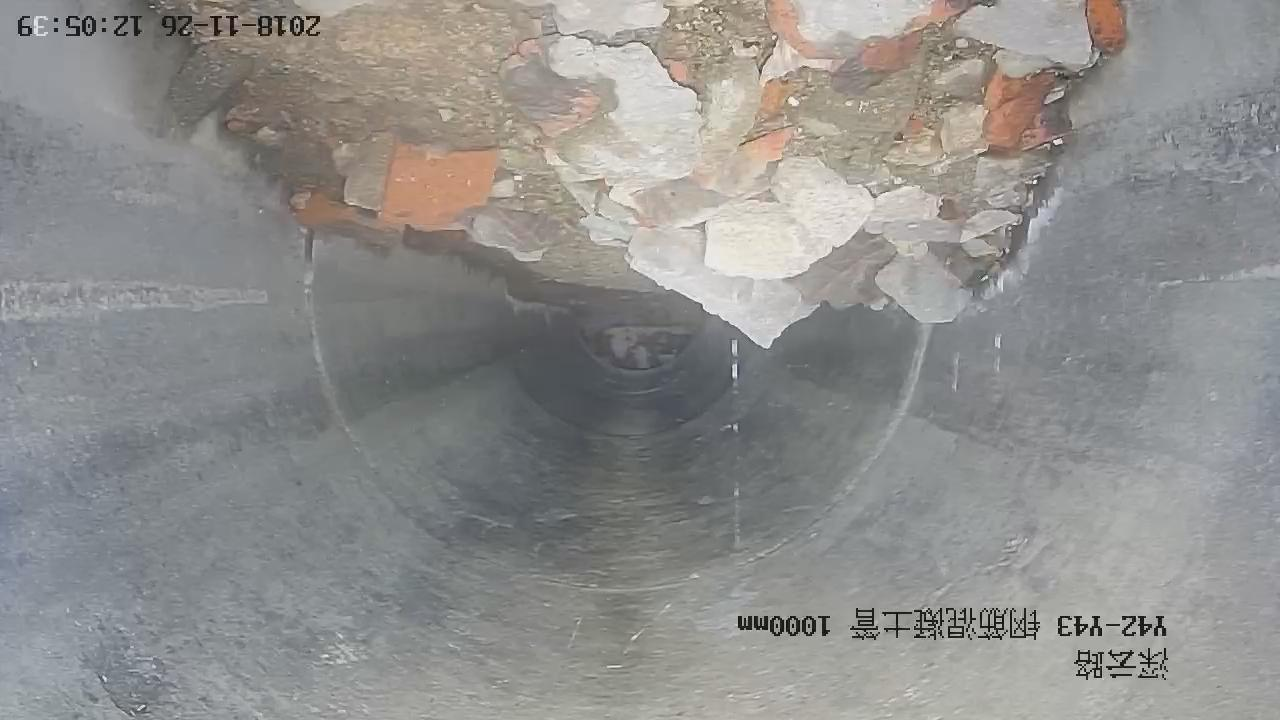ZAW: (502, 1, 1126, 348), (294, 142, 560, 261)
